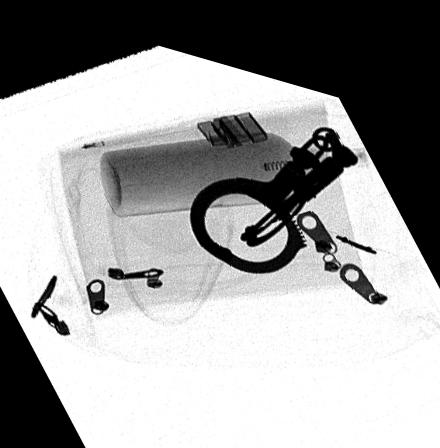HandCuffs: (189, 107, 358, 258)
